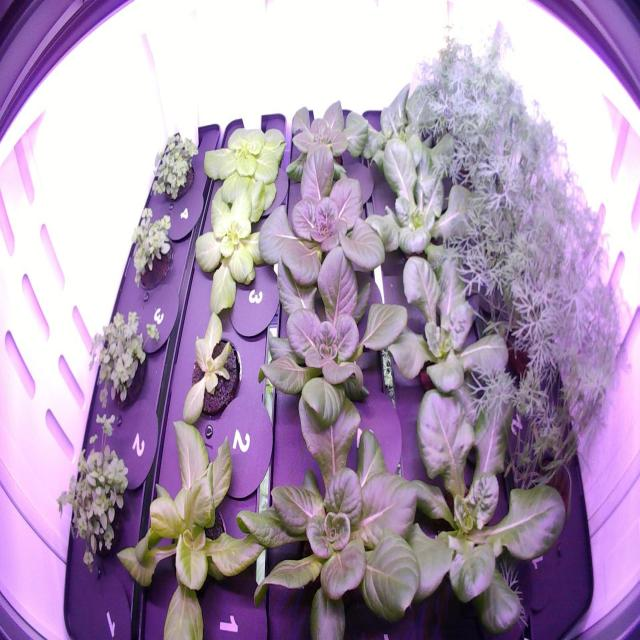young: (228, 370, 432, 631), (378, 368, 573, 635), (105, 413, 272, 635), (254, 242, 412, 462), (369, 240, 524, 434), (254, 142, 387, 315), (352, 130, 496, 280), (184, 187, 294, 332), (355, 74, 471, 196), (199, 96, 296, 218), (171, 307, 252, 438), (280, 91, 370, 198)
